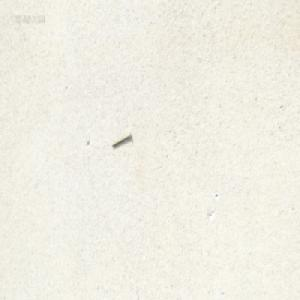Bolt: (111, 131, 131, 148)
